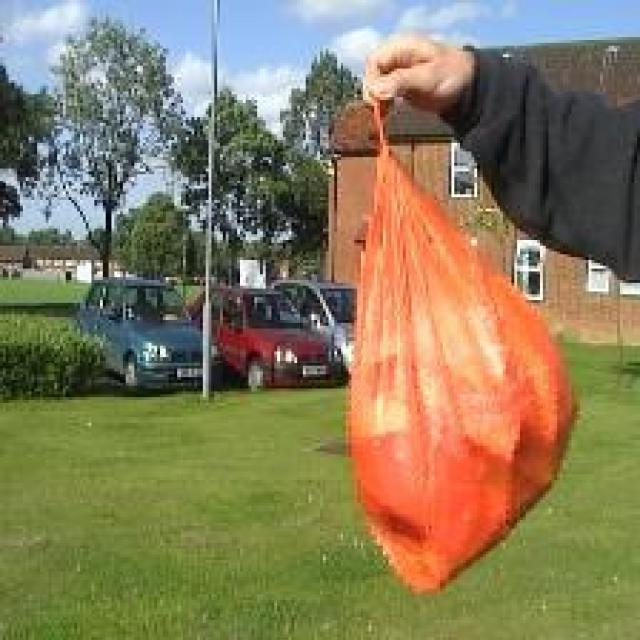other: (331, 125, 596, 583)
